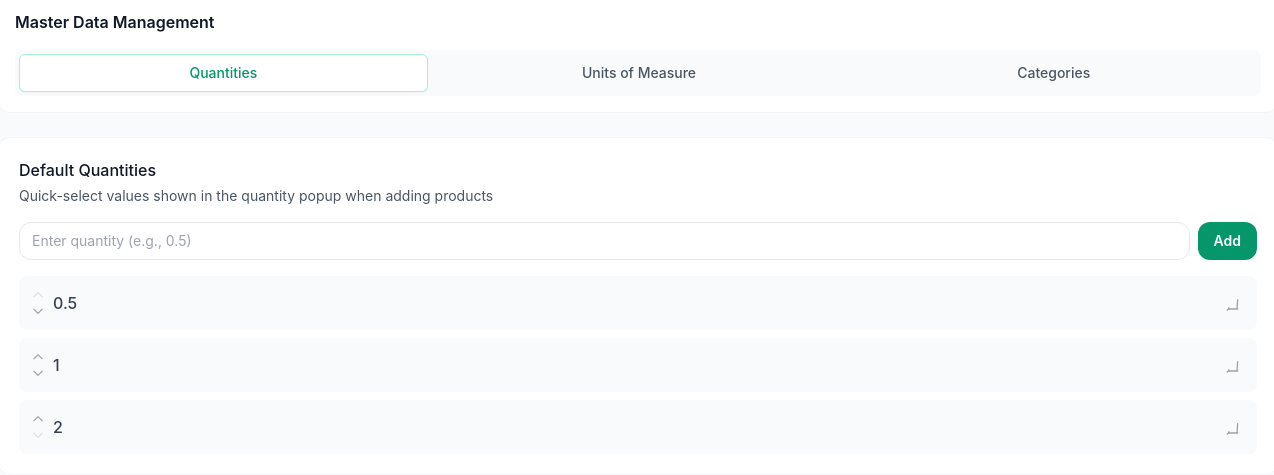
it: MasterDataTab › Default Quantities Section › should validate quantity input
This screenshot has width=1274, height=475.
Type "-1" into the number field with placeholder "Enter quantity (e.g., 0.5)". click: {"x": 604, "y": 241}
box: 19,222 -> 1190,260
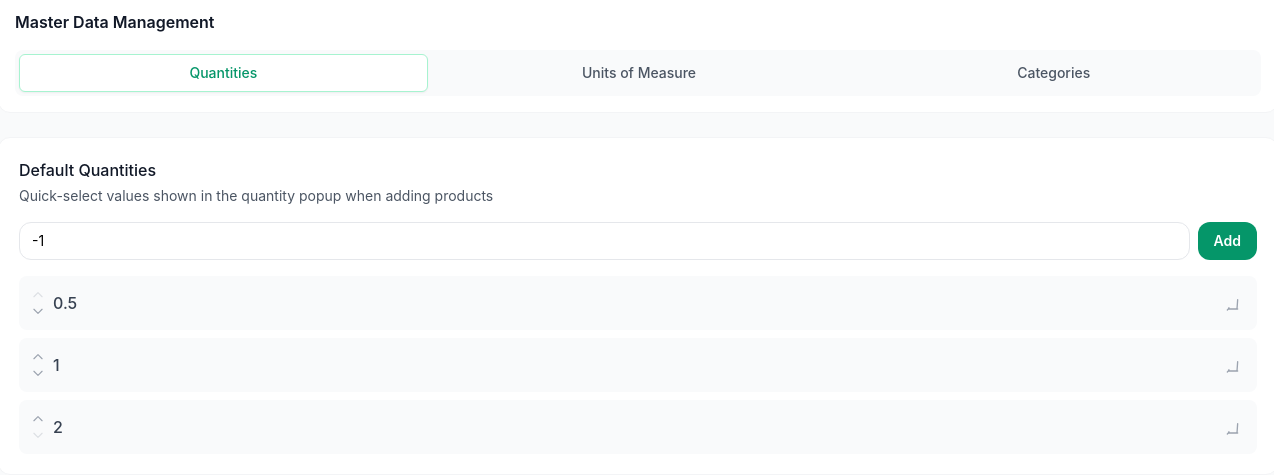
// Submit the form instead of clicking the button
Submit the form with placeholder "Enter quantity (e.g., 0.5)", box 19,222 -> 1257,260
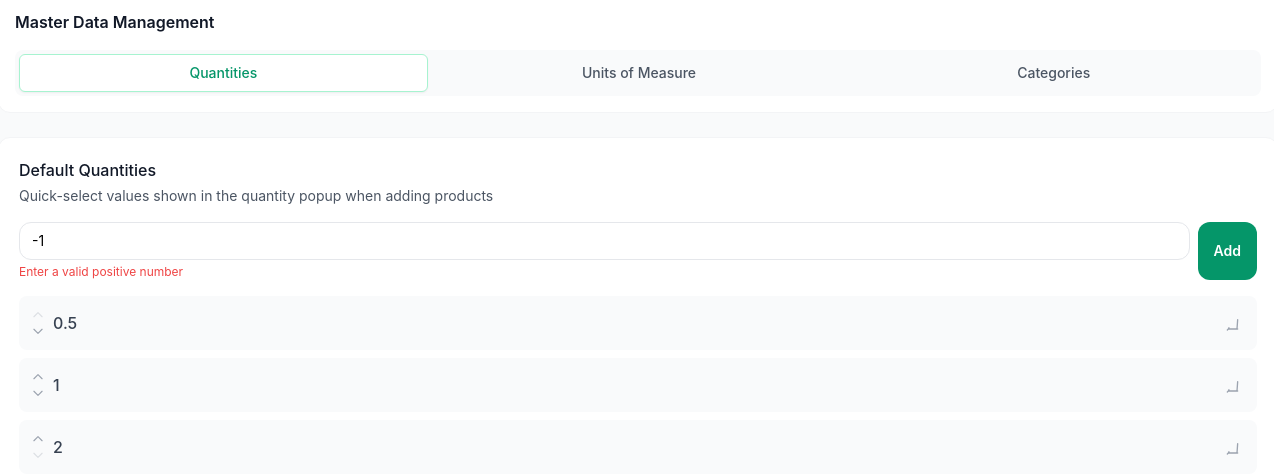
Check: the text "Enter a valid positive number" is shown, box 19,264 -> 183,279
